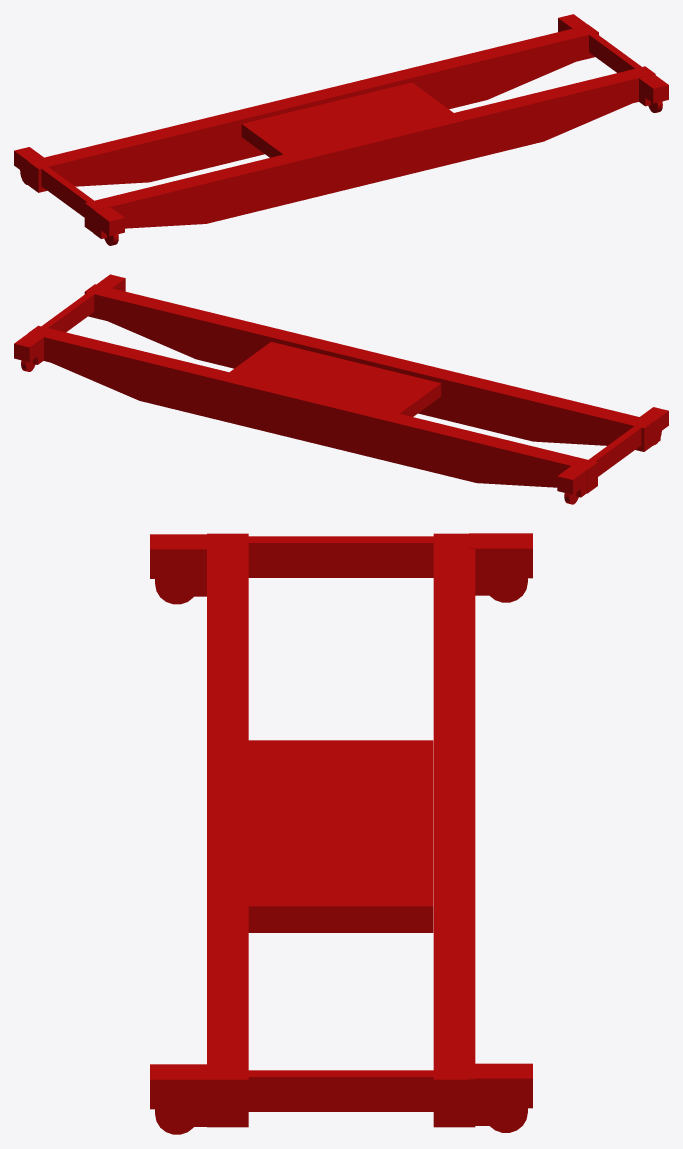
File: STSTrolleyLand.FBX
The picture shows the model from 3 angles, top to bottom: view 1: azimuth 30°, elevation 25°; view 2: azimuth 150°, elevation 25°; view 3: azimuth 270°, elevation 25°; orthographic projection. The views are drawn at different scales.
Parts seen in each view (by area): view 1: Box45120; view 2: Box45120; view 3: Box45120.
Boxes of the visible parts, x1,y1,x2,y2 form: Box45120: (14,14,668,245); Box45120: (14,274,668,504); Box45120: (150,533,532,1134).
Bounding box in the file's own units: 1800 × 125 × 533.
